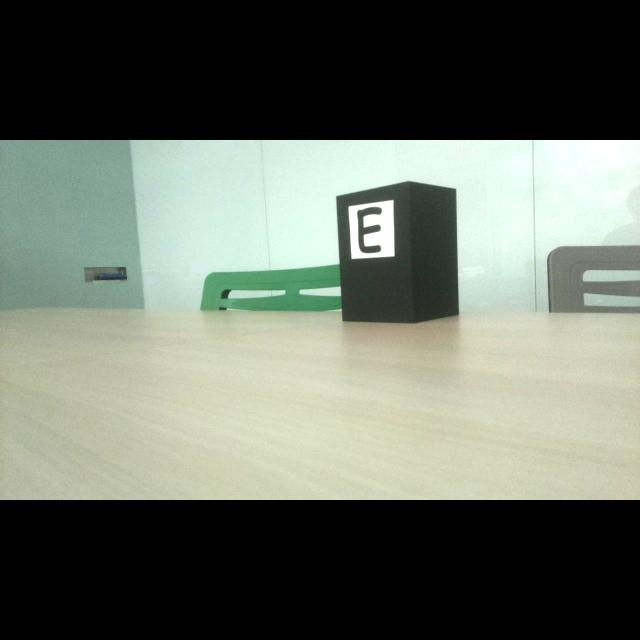E: (357, 207, 382, 253)
